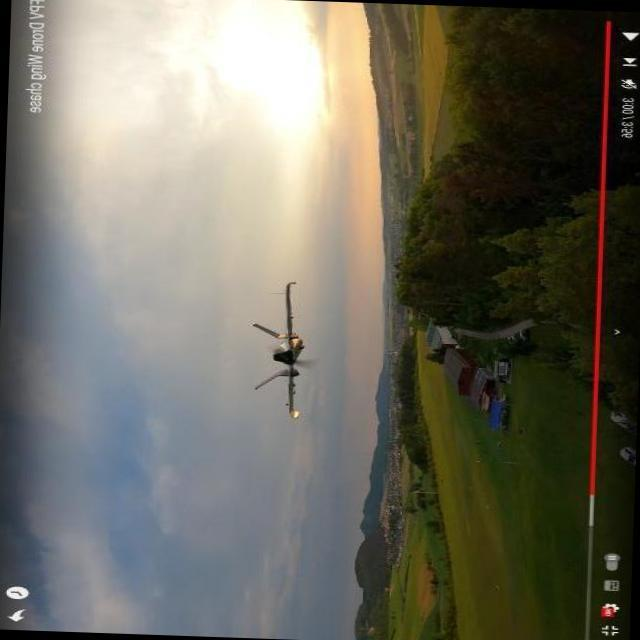iha: (281, 278, 299, 426)
